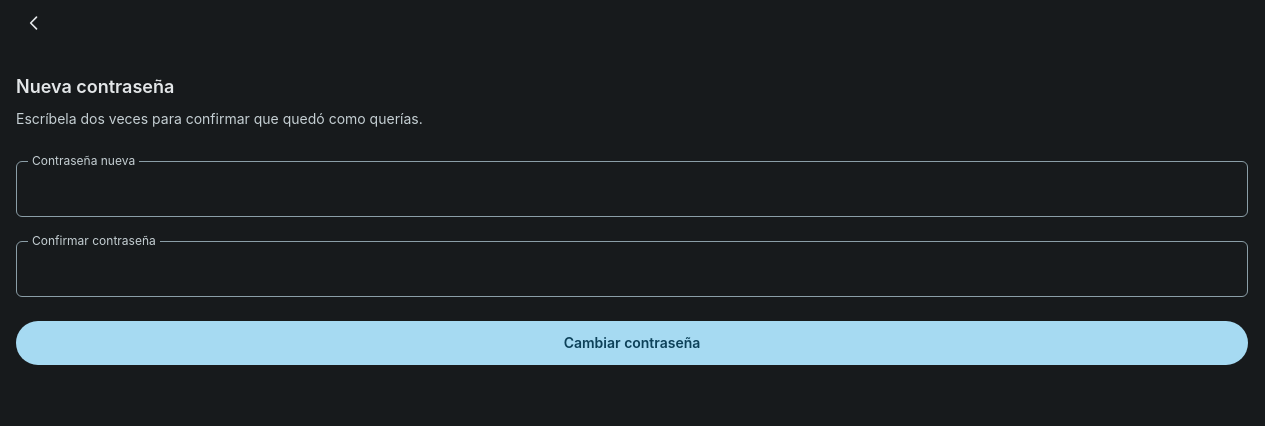
it: ResetPassword › con 400 en token muestra que el enlace ya no sirve
Type "NuevaClave123!" into the password field labelled "Contraseña nueva". click: [632, 189]
box: top-left (16, 161), bottom-right (1248, 217)
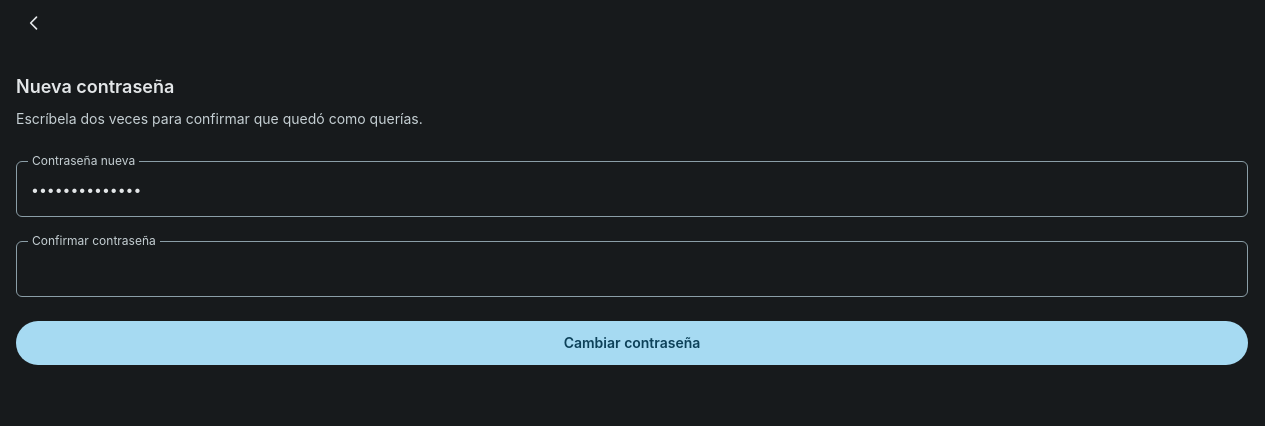
Type "NuevaClave123!" into the password field labelled "Confirmar contraseña". click: [632, 269]
box: top-left (16, 241), bottom-right (1248, 297)
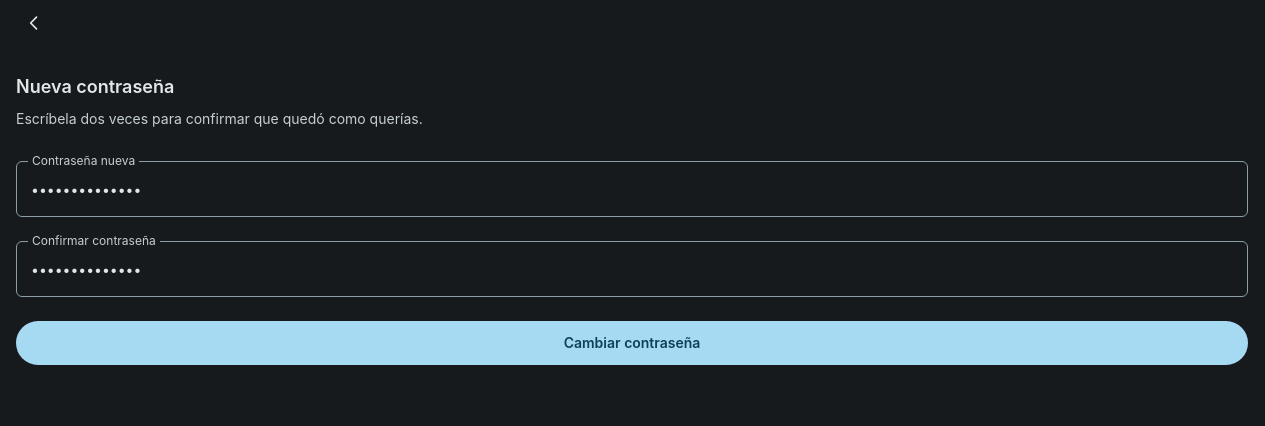
Click the button "Cambiar contraseña". click: [632, 343]
box: top-left (16, 321), bottom-right (1248, 365)
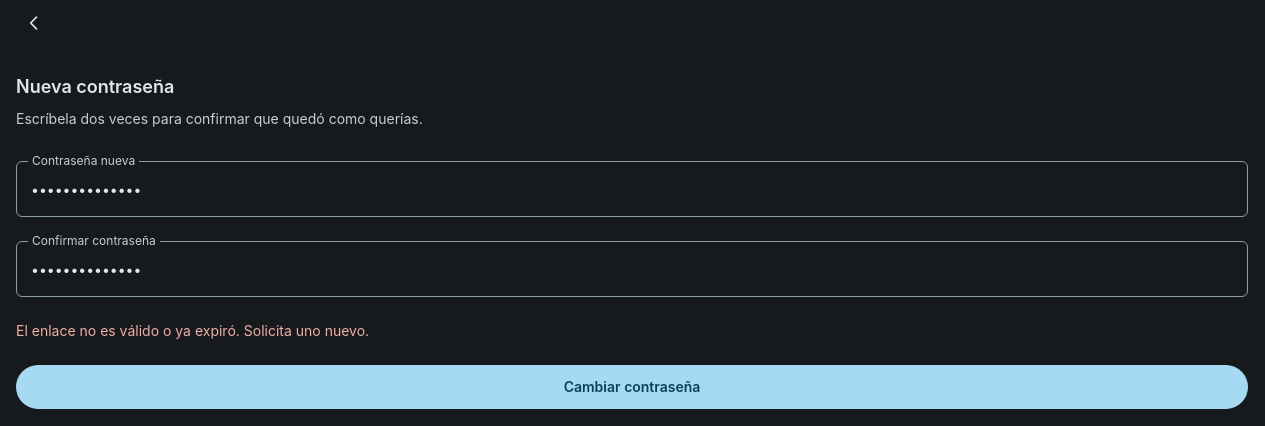
Now the message shows "El enlace no es válido o ya expiró.", box top-left (16, 322), bottom-right (369, 339)
